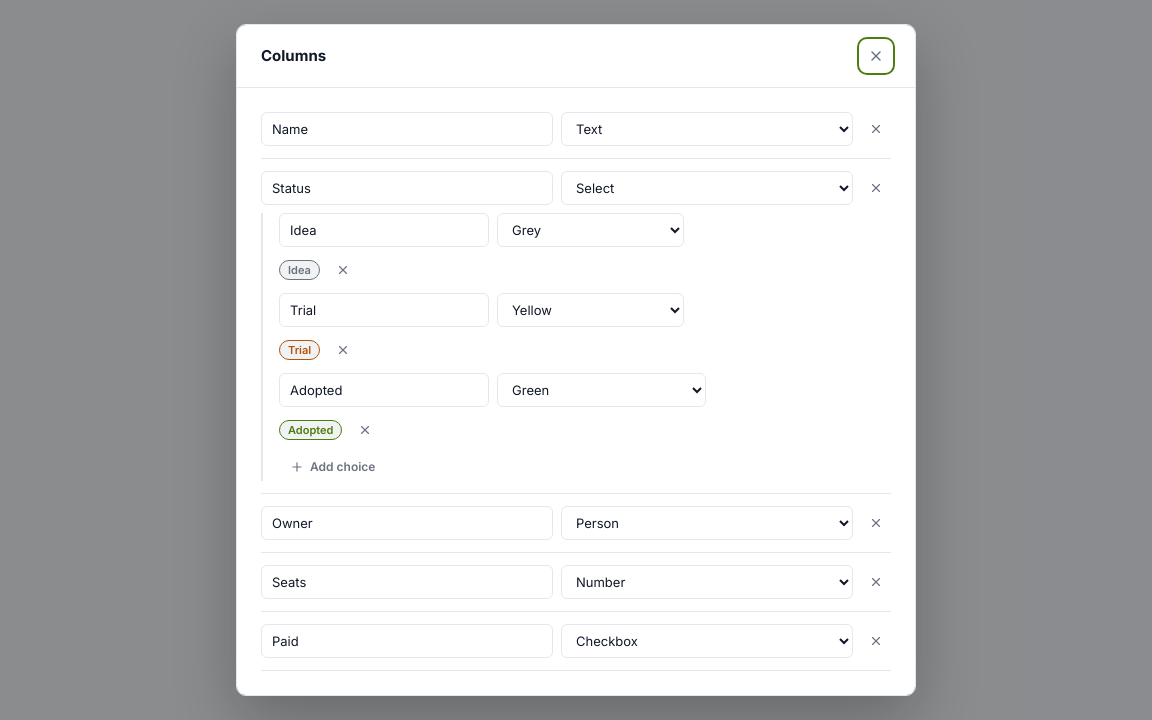
ColumnsDialog › renames, retypes and removes, and says how many values were cleared
Type " (pagados)" into the 4th field named "Column name" at (407, 582), box [261, 565, 553, 599]
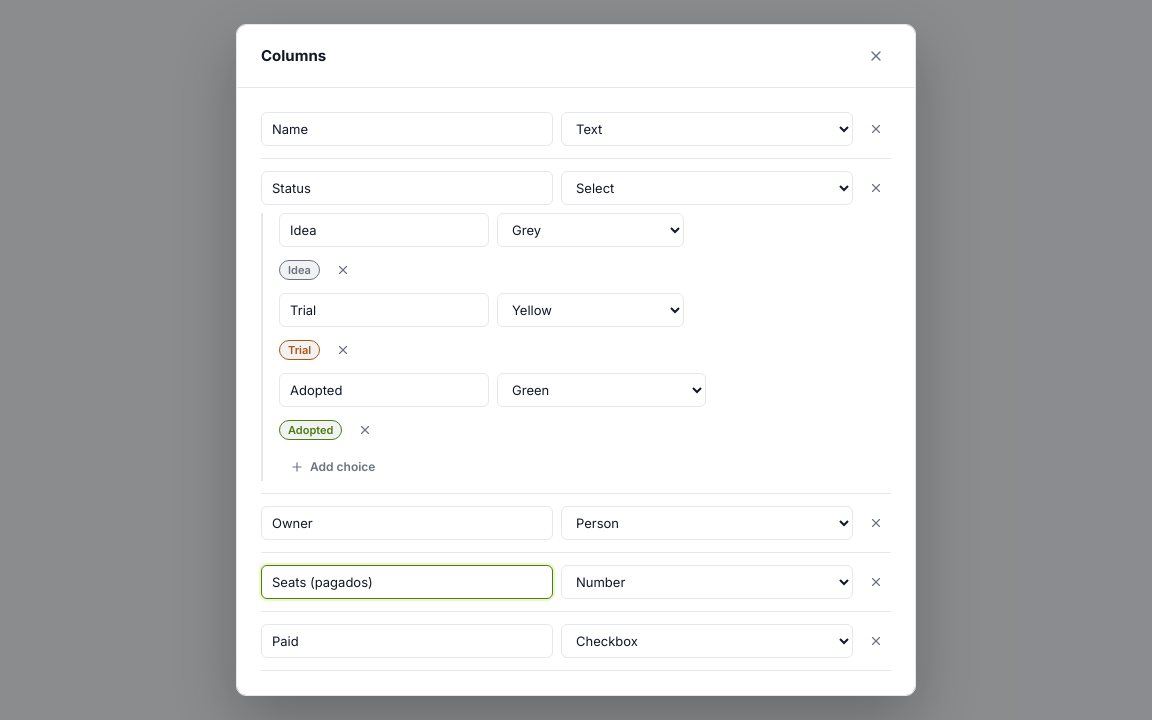
Select "Text" in the 4th dropdown named "Type" at (707, 582), box [561, 565, 853, 599]
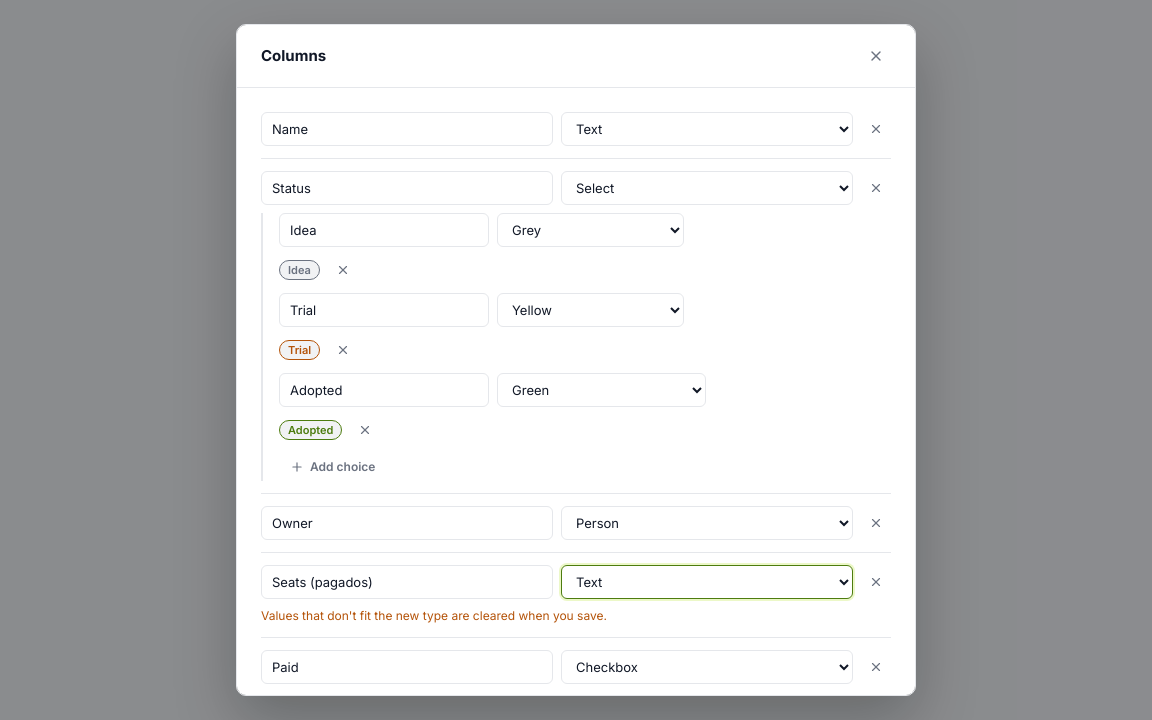
Expected: the text "Values that don't fit" is shown, [261, 608, 607, 623]
Click the button named "Remove Owner" at (876, 523), box [861, 508, 891, 538]
(page scrolled)
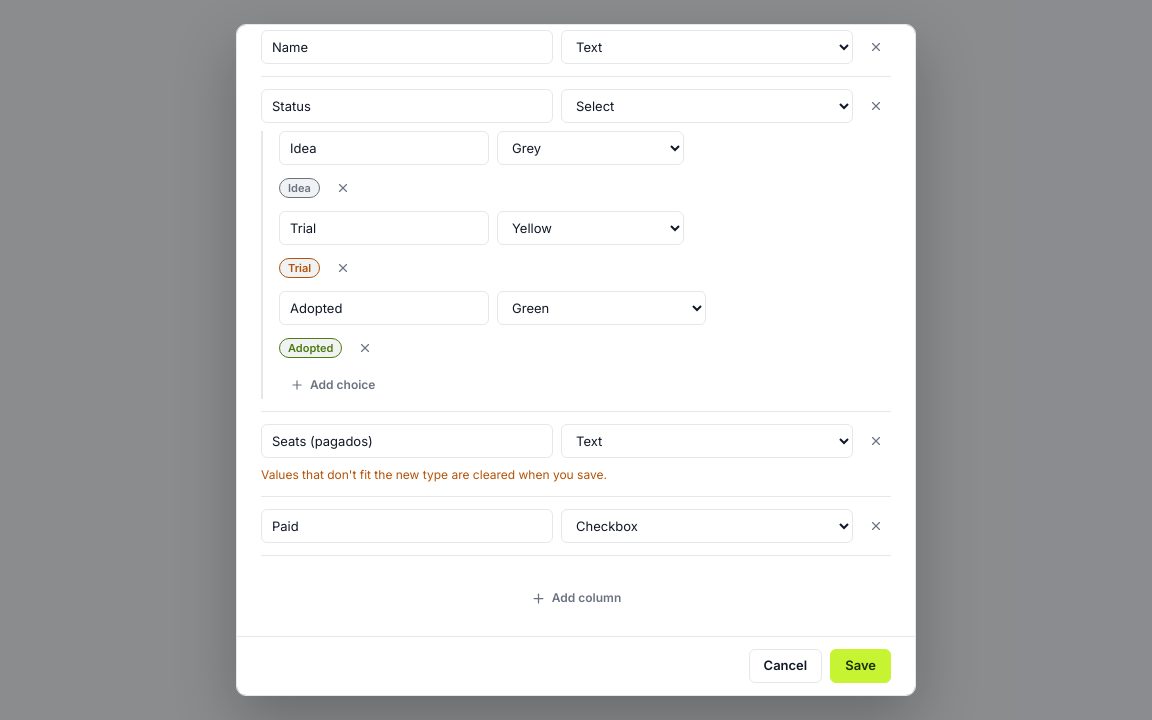
Click the button "Save" at (861, 666), box [830, 649, 891, 683]
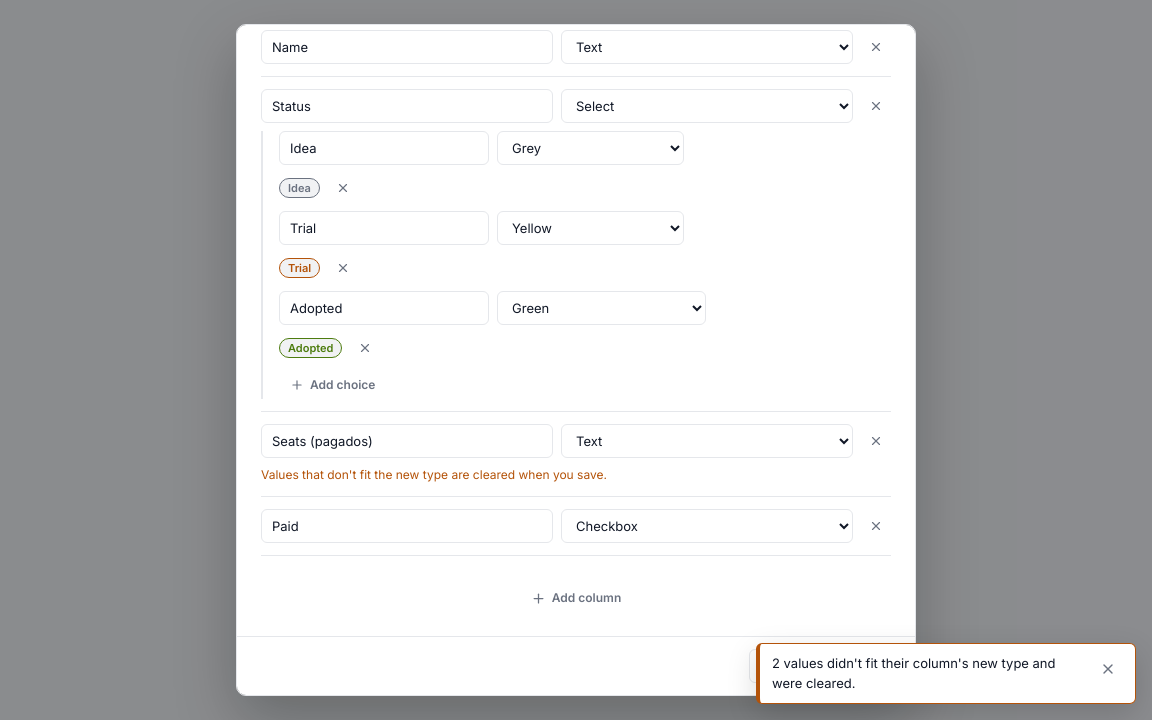
Expected: the text "2 values didn't fit their column's new type and were cleared." is shown, [772, 654, 1083, 693]
